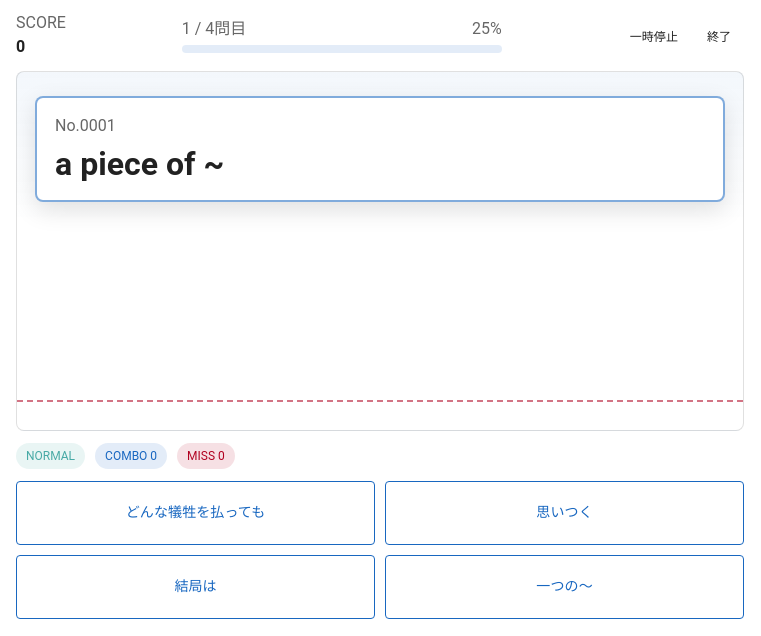
it: GameView › 一時停止中は問題文と選択肢を非表示にできる
The image size is (761, 636).
Click the button "一時停止". click: (654, 35)
box: [618,21,690,49]
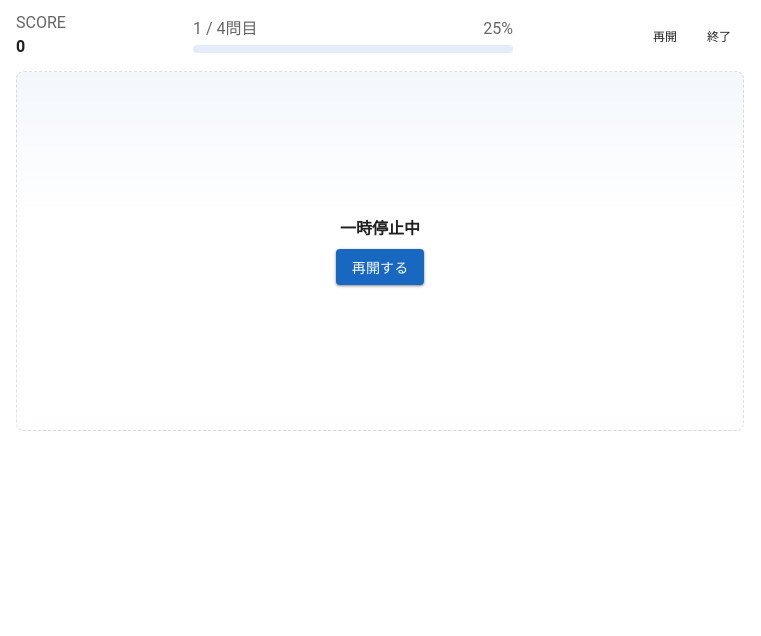
Check: the text "一時停止中" is shown, box [336,217,424,241]
Check: the text "a piece of ~" is gone
Check: no buttons with class "choice-button" are shown
